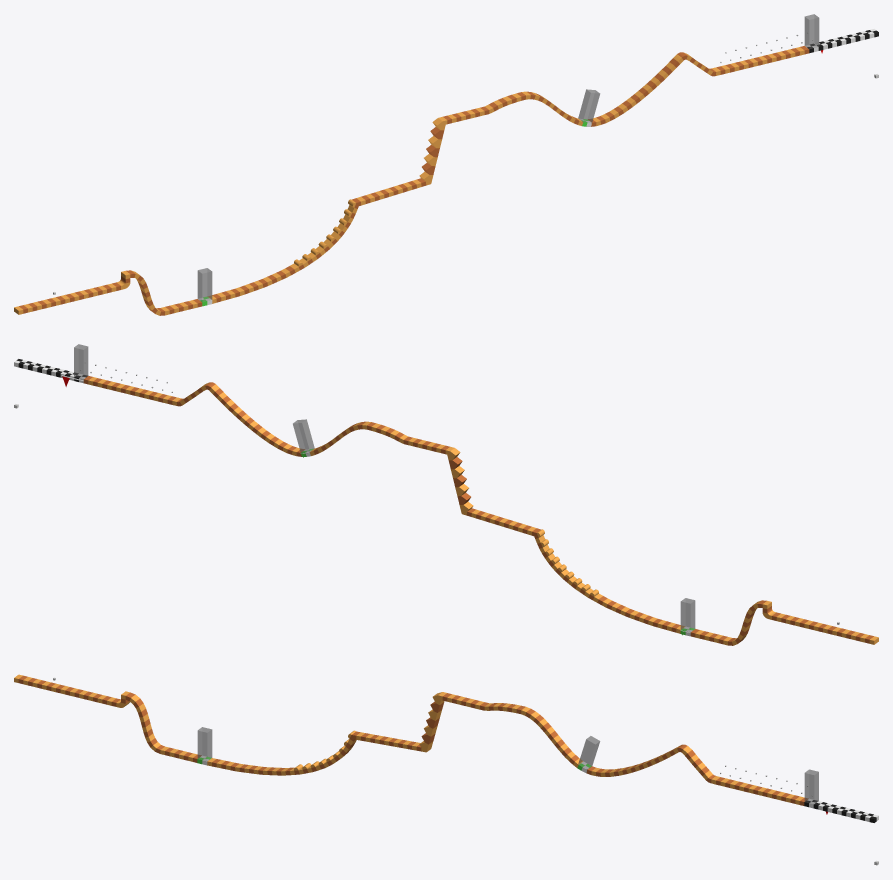
The picture shows the model from 3 angles, top to bottom: view 1: azimuth 30°, elevation 25°; view 2: azimuth 150°, elevation 25°; view 3: azimuth 330°, elevation 25°; orthographic projection.
Visible parts, largest first — view 1: Floor, Finish_Floor; view 2: Floor, Finish_Floor; view 3: Floor, Finish_Floor, Checkpoint.002, Finish, Checkpoint.001.
Boxes of the visible parts, bbox=[...] form: Floor: bbox=[14, 46, 809, 315]; Finish_Floor: bbox=[805, 29, 878, 53]; Floor: bbox=[83, 376, 878, 645]; Finish_Floor: bbox=[14, 359, 88, 383]; Floor: bbox=[14, 674, 807, 805]; Finish_Floor: bbox=[804, 798, 878, 822]; Checkpoint.002: bbox=[197, 727, 212, 760]; Finish: bbox=[804, 769, 818, 804]; Checkpoint.001: bbox=[578, 736, 600, 769].
Size of what is drawn, in the model's own units: 185 by 28.65 by 1.93.
Materials: 4 (1 with a texture image).
